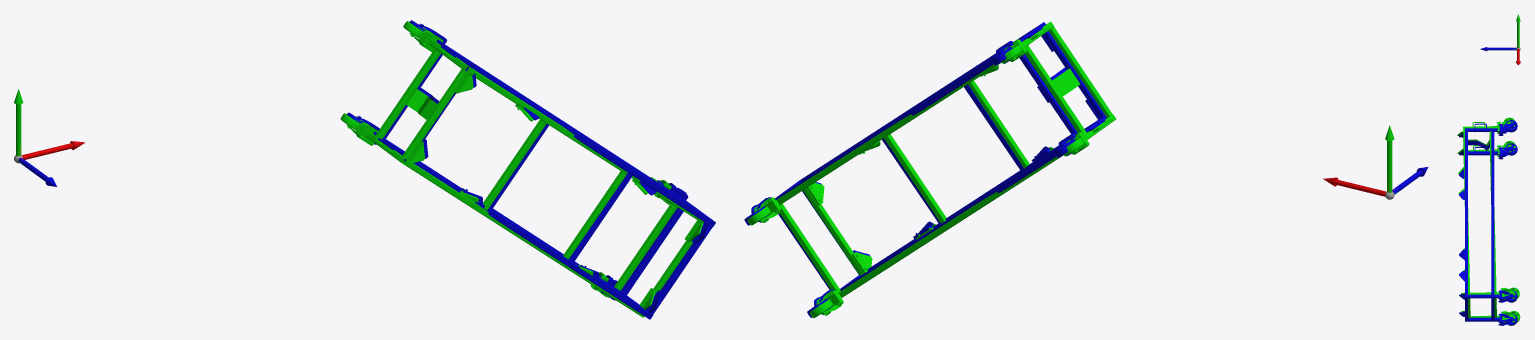
Rendered from combined_scene_sample_48.glb.
The picture shows the model from 3 angles, left to right: view 1: azimuth 30°, elevation 25°; view 2: azimuth 150°, elevation 25°; view 3: azimuth 270°, elevation 25°; orthographic projection. The views are drawn at different scales.
Visible parts, largest first — view 1: pred, gt, frame; view 2: pred, gt, frame; view 3: gt, pred, frame.
Boxes of the visible parts, x1=… form: pred: x1=340, y1=21, x2=703, y2=317; gt: x1=347, y1=20, x2=715, y2=319; frame: x1=14, y1=89, x2=85, y2=186; pred: x1=747, y1=21, x2=1115, y2=318; gt: x1=744, y1=22, x2=1106, y2=317; frame: x1=1323, y1=125, x2=1428, y2=199; gt: x1=1459, y1=120, x2=1517, y2=325; pred: x1=1457, y1=117, x2=1520, y2=322; frame: x1=1480, y1=14, x2=1520, y2=65.
Bounding box in the file's own units: 4.89 × 2.43 × 0.8178.
